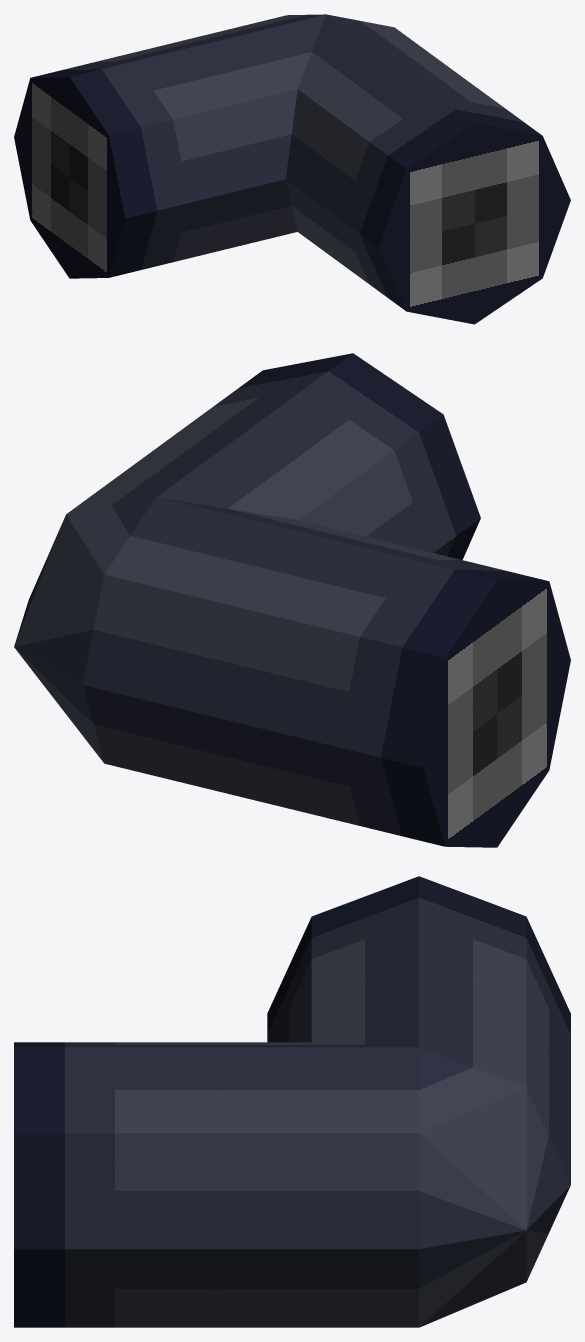
File: pipe_none_18.obj
3 views of the same model, one above another, from view 1: azimuth 30°, elevation 25°; view 2: azimuth 150°, elevation 25°; view 3: azimuth 270°, elevation 25° (orthographic). The views are drawn at different scales.
Size of the model in its own units: 0.6875 by 0.375 by 0.6875.
